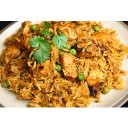briyani: (7, 23, 125, 101)
